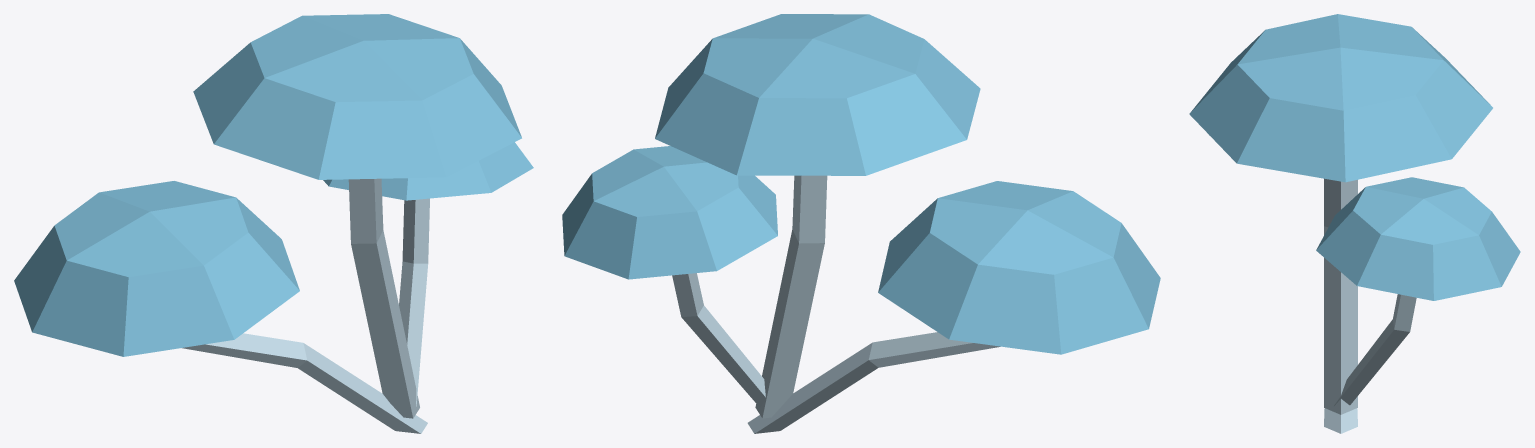
Rendered from Mushroom_a_05.fbx.
3 renders of one model, left to right at view 1: azimuth 30°, elevation 25°; view 2: azimuth 150°, elevation 25°; view 3: azimuth 270°, elevation 25°, orthographic. The views are drawn at different scales.
Visible parts, largest first — view 1: Mushroom_a_05; view 2: Mushroom_a_05; view 3: Mushroom_a_05.
Boxes of the visible parts, x1,y1,x2,y2 form: Mushroom_a_05: (14,14,533,433); Mushroom_a_05: (562,14,1160,433); Mushroom_a_05: (1189,14,1520,433).
Bounding box in the file's own units: 46.53 × 33.37 × 28.02.
